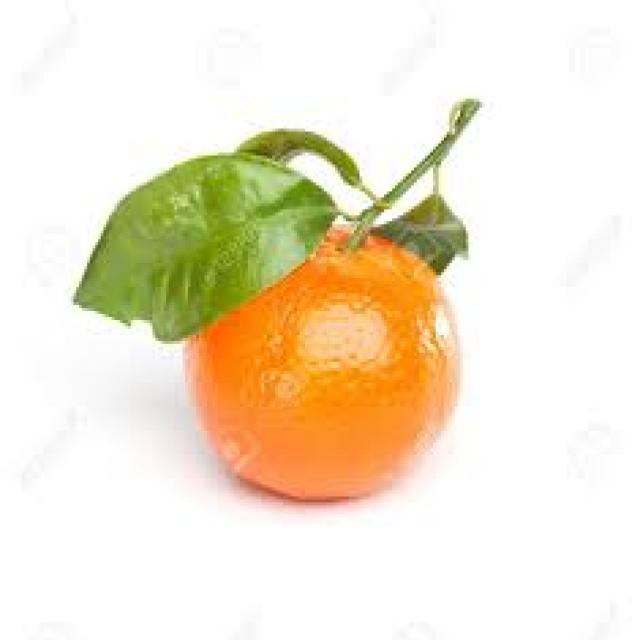organic waste: (177, 218, 455, 500), (66, 149, 340, 335), (228, 123, 378, 227), (371, 192, 468, 281)
